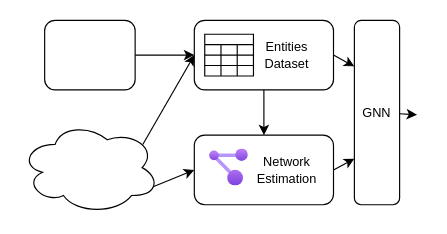
The diagram is 447 pixels wide and 234 high, and some of its shapes have lost their labels. The shapes that lost their labels are listed below. From the top down, each one's centre as x and y in pixels, then its label:
point 89,54: Systemic Risk Metric
point 89,167: External Information
